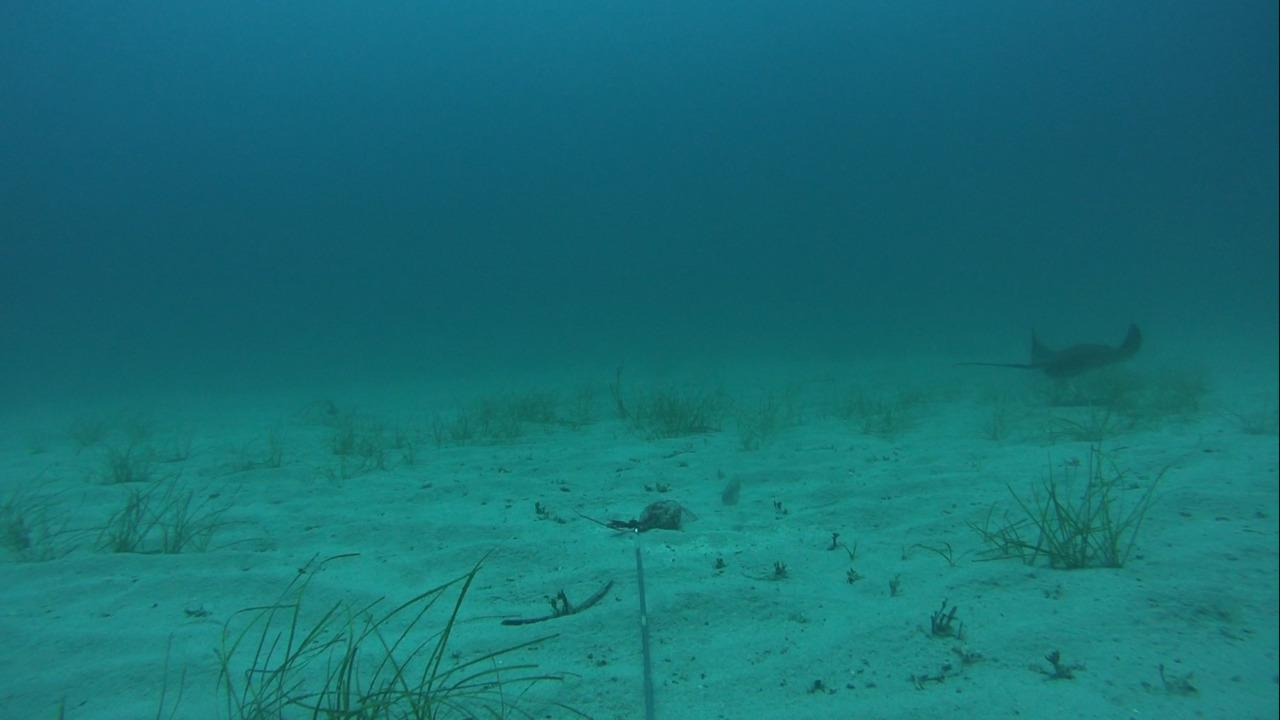myliobatis: (950, 321, 1152, 385)
raor: (709, 472, 755, 512)
